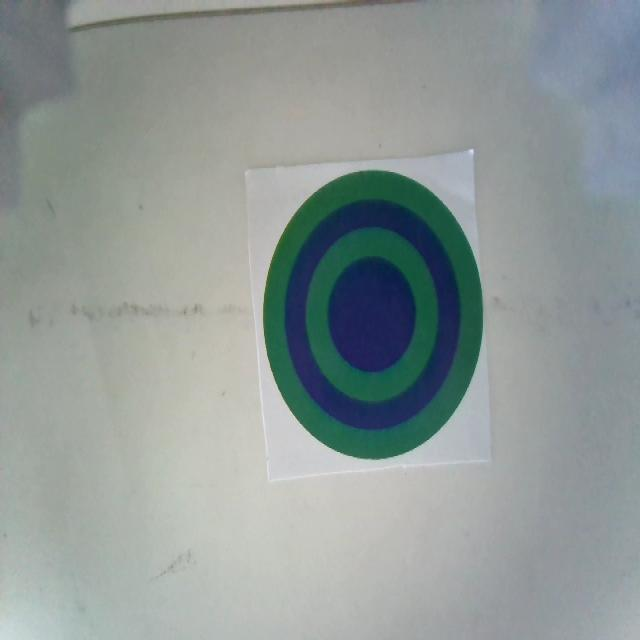cogn: (261, 168, 482, 458)
